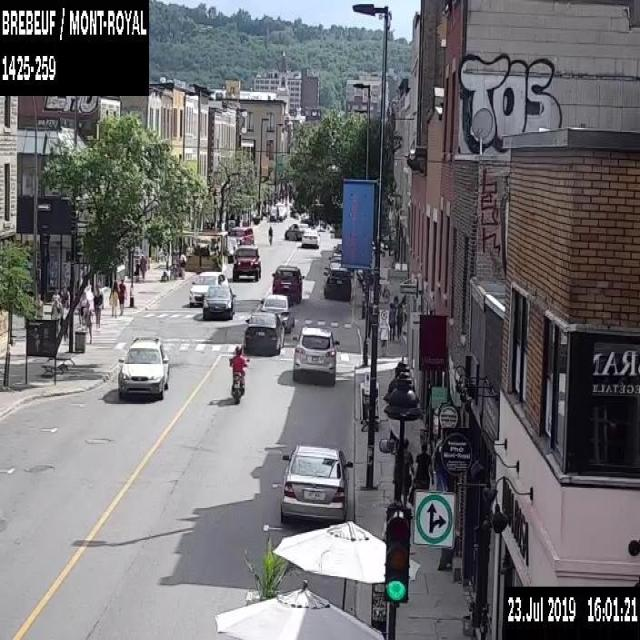cyclist: (266, 223, 272, 245)
pedestrian: (393, 433, 414, 506), (413, 438, 434, 502), (49, 288, 63, 336), (387, 295, 398, 341), (82, 299, 92, 344), (92, 285, 102, 330), (108, 278, 118, 318), (396, 301, 404, 340), (118, 278, 126, 314), (34, 290, 44, 318), (140, 253, 146, 284), (134, 257, 140, 282), (275, 205, 279, 221)
vehicle: (279, 440, 353, 521), (116, 333, 169, 400), (292, 326, 338, 386), (242, 311, 282, 355), (189, 271, 228, 306), (261, 294, 295, 333), (270, 264, 304, 303), (231, 242, 261, 282), (228, 345, 248, 404), (202, 285, 232, 320), (323, 262, 351, 299), (228, 226, 254, 244), (284, 222, 308, 240), (301, 227, 319, 248), (269, 206, 283, 220), (328, 251, 340, 262), (331, 242, 341, 252)
